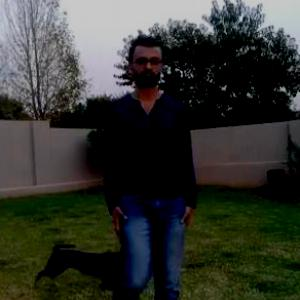follow: (104, 34, 197, 299)
